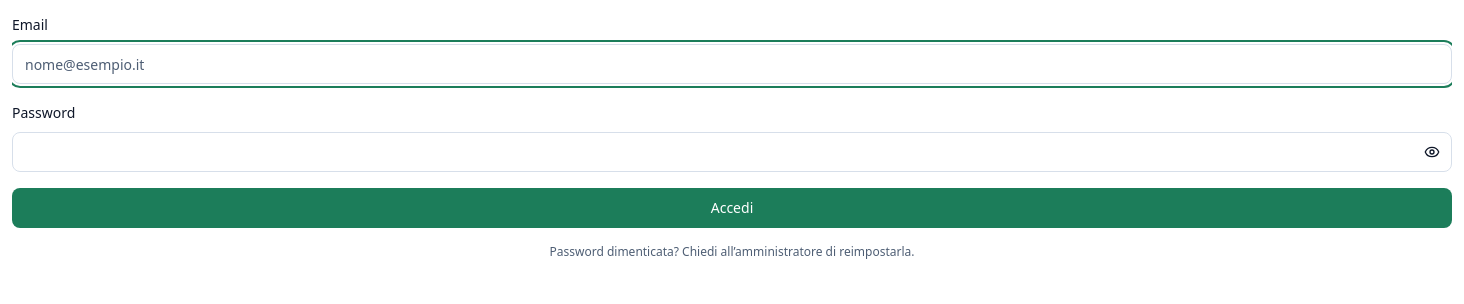
Test: LoginForm › segnala un’email formalmente non valida
The width and height of the screenshot is (1464, 304).
Type "non-una-email" into the field labelled "Email".
click(732, 64); type("non-una-email")  # box [12,44,1452,84]
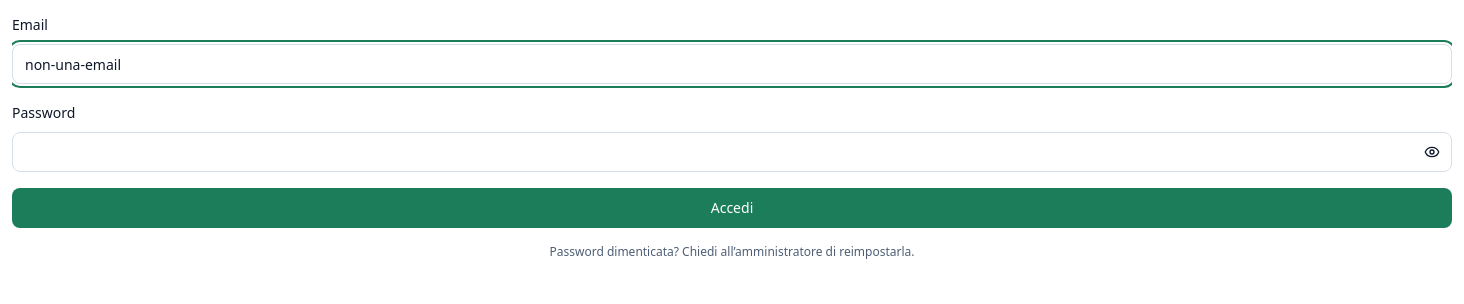
Type "Password1" into the password field labelled "Password".
click(732, 152); type("Password1")  # box [12,132,1452,172]
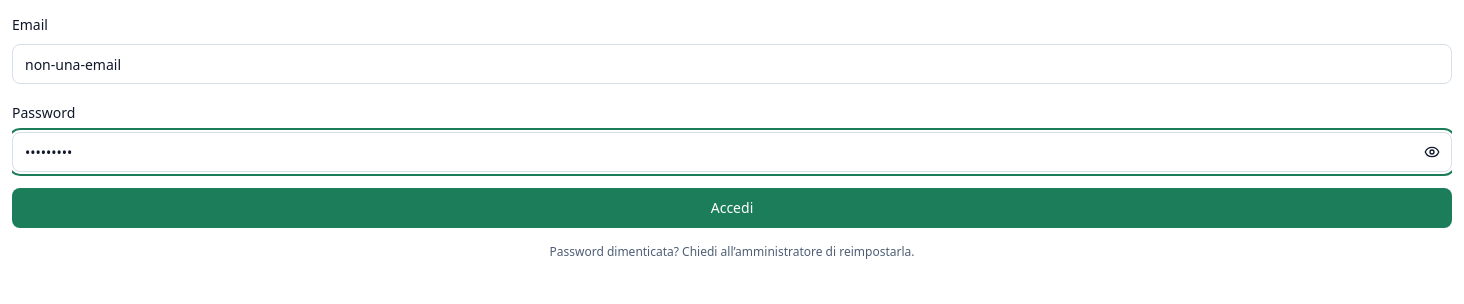
Click the button "Accedi".
click(732, 208)  # box [12,188,1452,228]
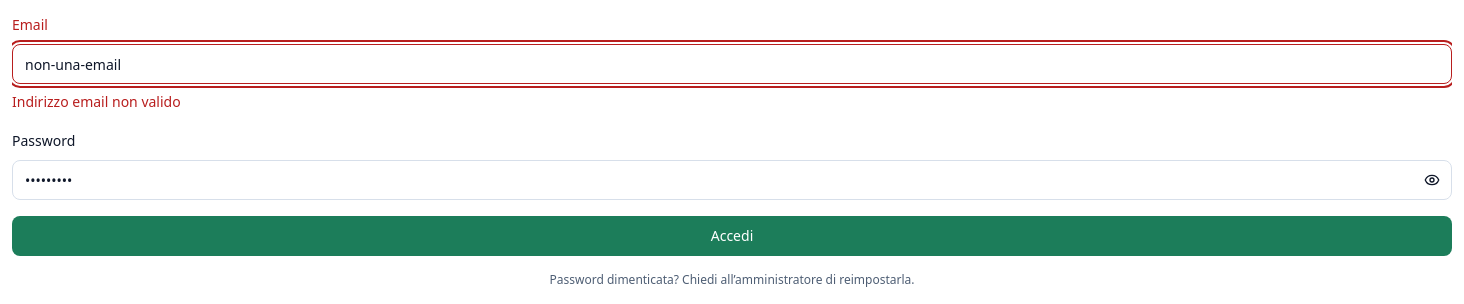
expect the text "Indirizzo email non valido" is shown: met, box [12,92,181,111]
